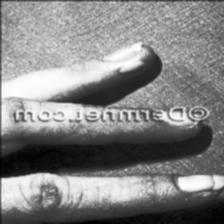Unclassified: (40, 206, 116, 220), (2, 127, 71, 142)
